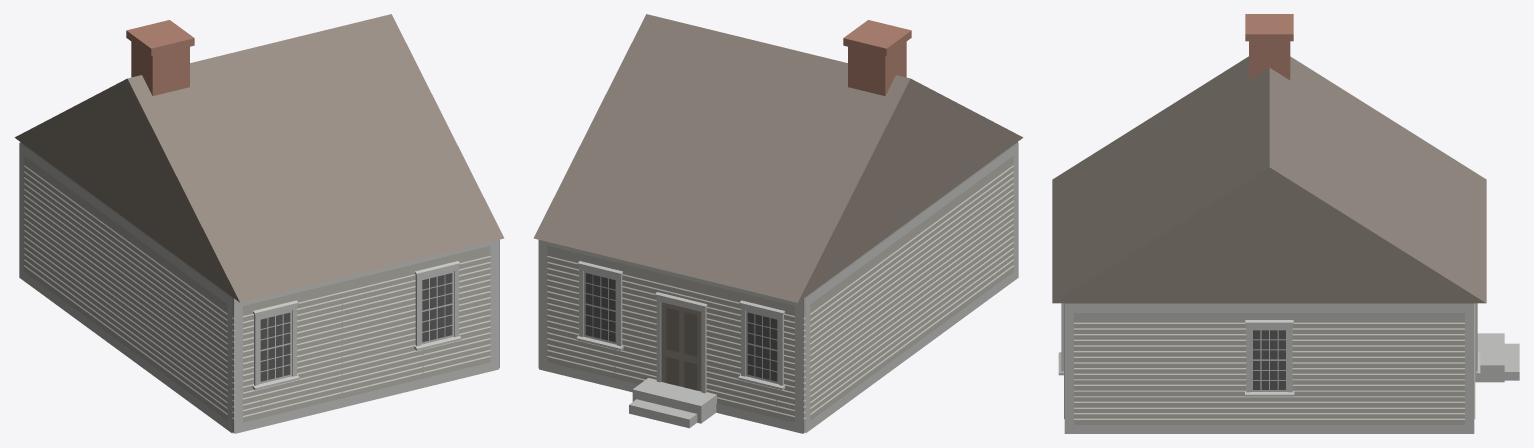
The model's file is recon_1835_blk_indiana_north_cass_d4_05__inferred_1835.glb.
3 renders of one model, left to right at view 1: azimuth 30°, elevation 25°; view 2: azimuth 150°, elevation 25°; view 3: azimuth 270°, elevation 25°, orthographic. The views are drawn at different scales.
Parts seen in each view (by area): view 1: recon_1835_blk_indiana_north_cass_d4_05__inferred_1835; view 2: recon_1835_blk_indiana_north_cass_d4_05__inferred_1835; view 3: recon_1835_blk_indiana_north_cass_d4_05__inferred_1835.
Boxes of the visible parts, bbox=[...] form: recon_1835_blk_indiana_north_cass_d4_05__inferred_1835: bbox=[14, 14, 504, 433]; recon_1835_blk_indiana_north_cass_d4_05__inferred_1835: bbox=[533, 14, 1023, 433]; recon_1835_blk_indiana_north_cass_d4_05__inferred_1835: bbox=[1052, 14, 1519, 433].
Size of the model in its own units: 6.13 by 6.76 by 9.51.
